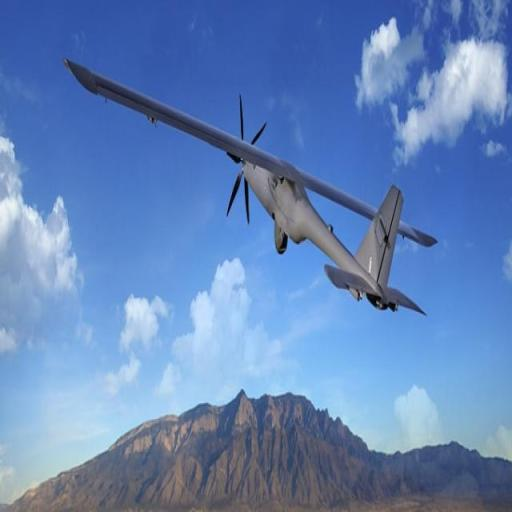uav: (60, 54, 440, 328)
